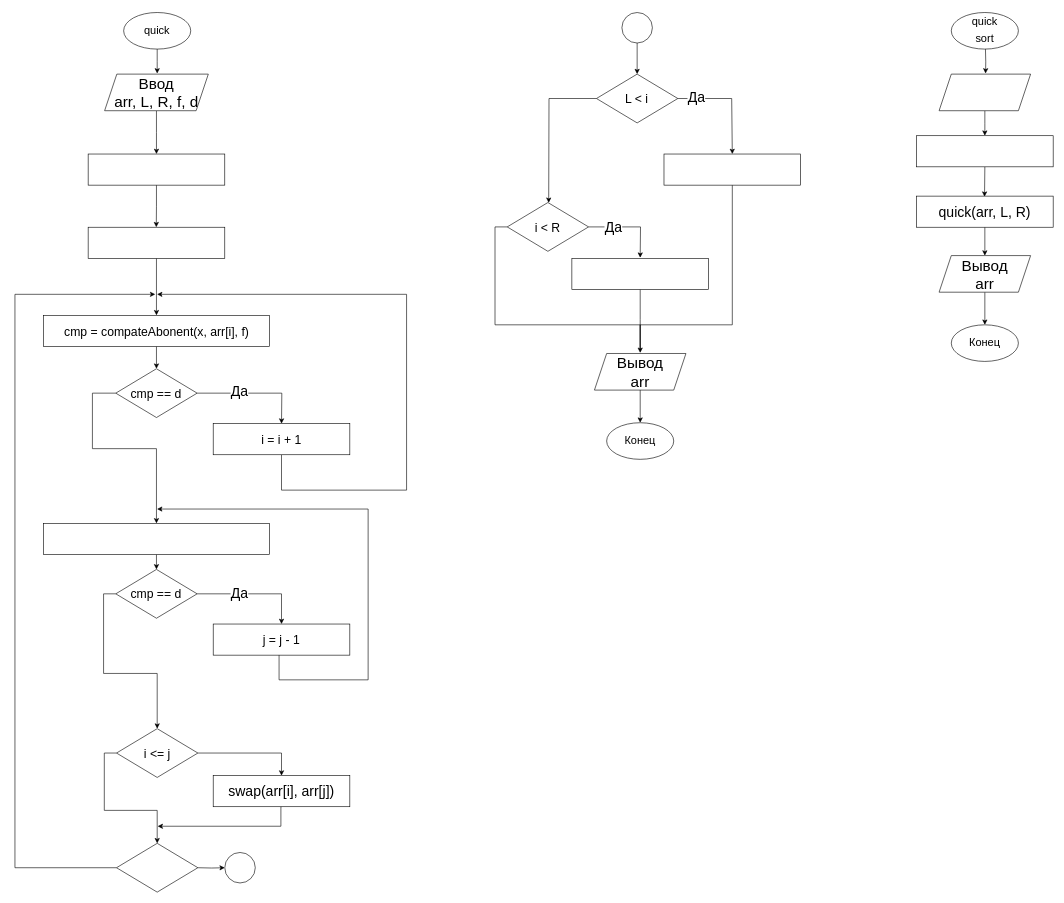
This 1064x903 diagram has some shape labels left out. Each missing label, with the centre of its shape:
cmp = compateAbonent(arr[j], x, f): (156,538)
i = L, j = R: (156,169)
i > j: (157,867)
L = 1, R = n: (984,151)
quick(arr, i, R, f, d): (640,273)
quick(arr, L, j, f, d): (732,169)
x = arr[(L + R) / 2]: (156,242)
Ввод arr, n, f, d: (984,92)
